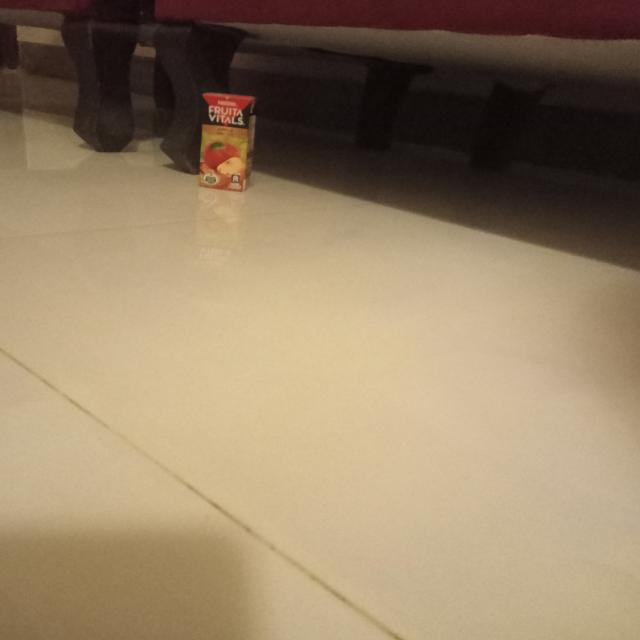Plastic: (193, 88, 265, 192)
